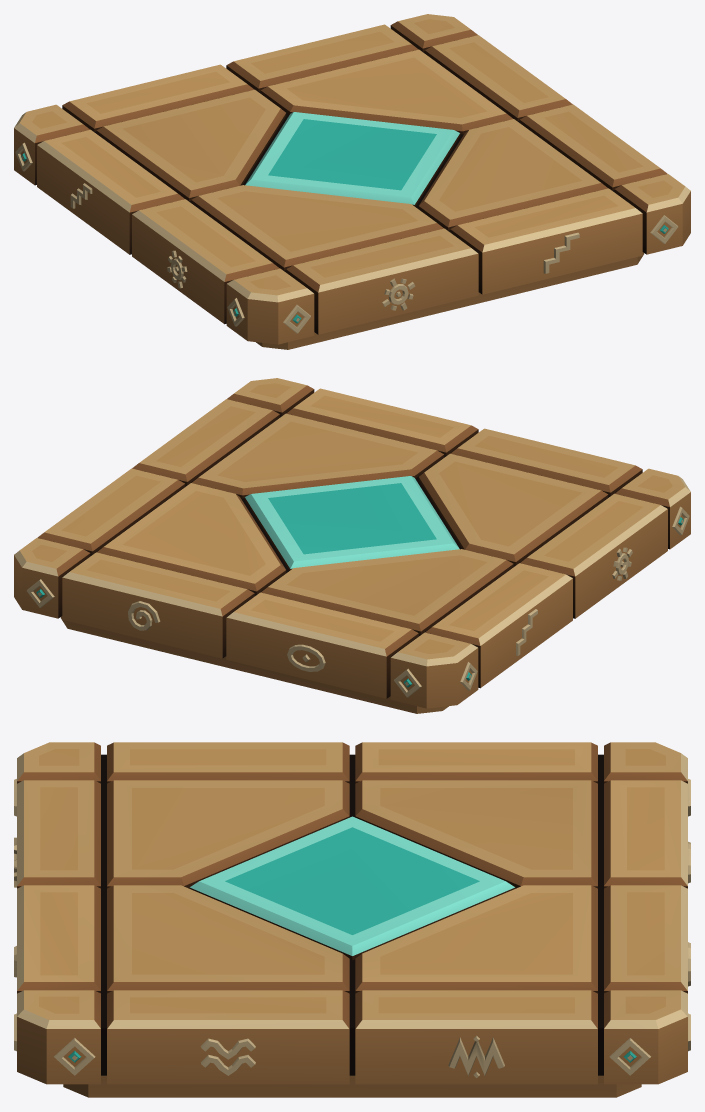
The model's file is platform_desert.glb.
The picture shows the model from 3 angles, top to bottom: view 1: azimuth 30°, elevation 25°; view 2: azimuth 150°, elevation 25°; view 3: azimuth 270°, elevation 25°; orthographic projection. The views are drawn at different scales.
Parts seen in each view (by area): view 1: platform_desert; view 2: platform_desert; view 3: platform_desert.
Boxes of the visible parts, left/top/right/bottom form: platform_desert: left=14, top=14, right=690, bottom=349; platform_desert: left=14, top=378, right=690, bottom=713; platform_desert: left=14, top=742, right=690, bottom=1097.
Size of the model in its own units: 3 by 0.6 by 3.
